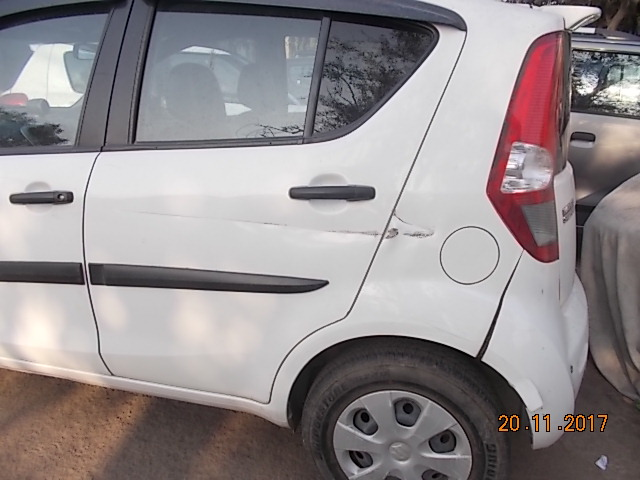Dislocation: (471, 303, 510, 359)
Scratch_or_spot: (386, 217, 435, 251)
